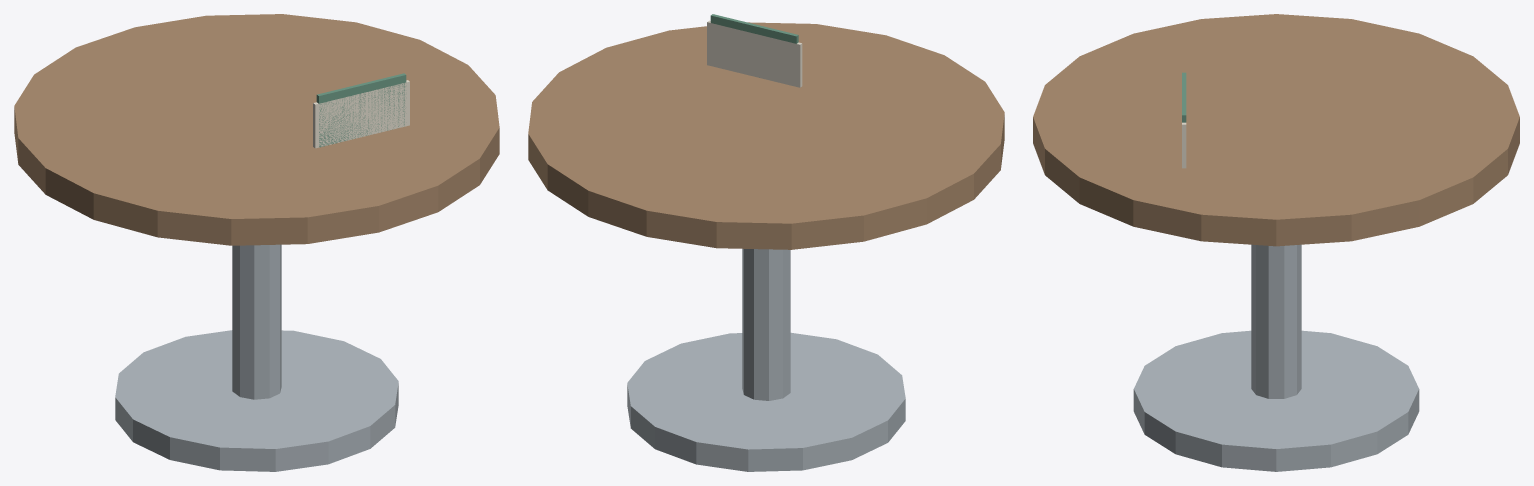
File: cafe_table.glb
The picture shows the model from 3 angles, left to right: view 1: azimuth 30°, elevation 25°; view 2: azimuth 150°, elevation 25°; view 3: azimuth 270°, elevation 25°; orthographic projection.
Visible parts, largest first — view 1: cafe_table; view 2: cafe_table; view 3: cafe_table.
Part boxes in pixels (x1=…): cafe_table: x1=14, y1=14, x2=499, y2=471; cafe_table: x1=528, y1=14, x2=1004, y2=471; cafe_table: x1=1033, y1=14, x2=1519, y2=471.
Bounding box in the file's own units: 1.16 × 0.91 × 1.16.
